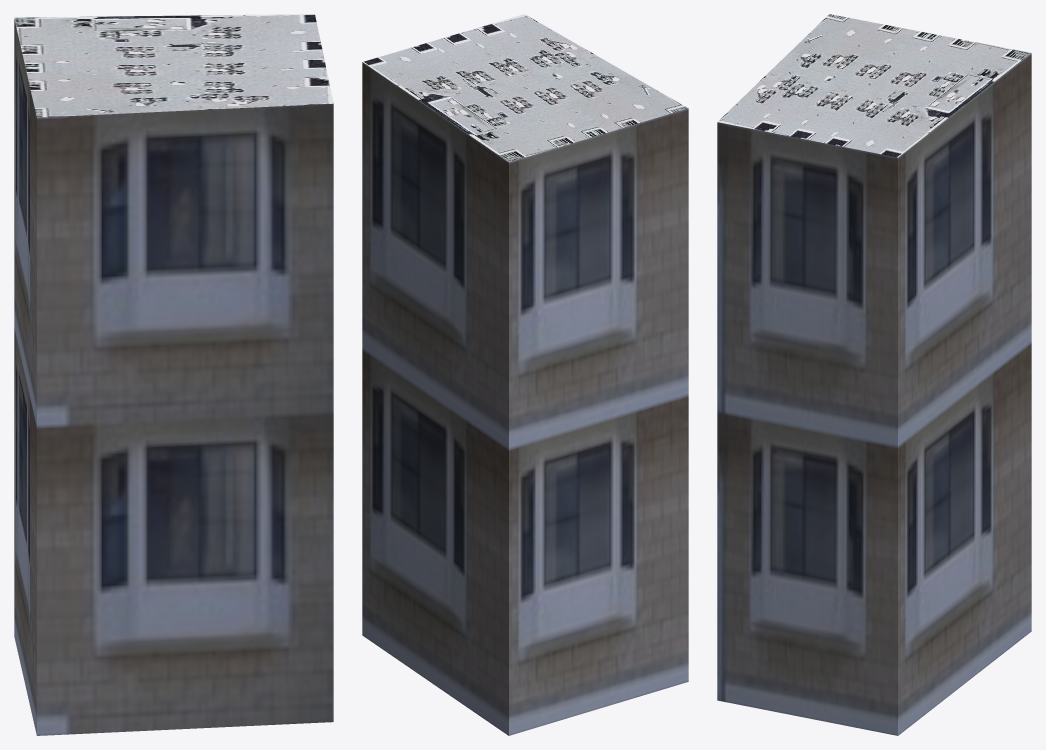
File: ResTex__4217.fbx
The picture shows the model from 3 angles, left to right: view 1: azimuth 30°, elevation 25°; view 2: azimuth 150°, elevation 25°; view 3: azimuth 270°, elevation 25°; orthographic projection. The views are drawn at different scales.
Visible parts, largest first — view 1: CityEngineMaterial_3_m, CityEngineMaterial_8_m; view 2: CityEngineMaterial_3_m, CityEngineMaterial_8_m; view 3: CityEngineMaterial_3_m, CityEngineMaterial_8_m.
Part boxes in pixels (x1,y1,x2,y2): CityEngineMaterial_3_m: (14,19,333,735); CityEngineMaterial_8_m: (14,14,333,117); CityEngineMaterial_3_m: (362,62,688,735); CityEngineMaterial_8_m: (363,14,687,162); CityEngineMaterial_3_m: (717,53,1031,735); CityEngineMaterial_8_m: (717,14,1031,157).
Bounding box in the file's own units: 3.2 × 6 × 2.96.
2 materials, 2 textured.
